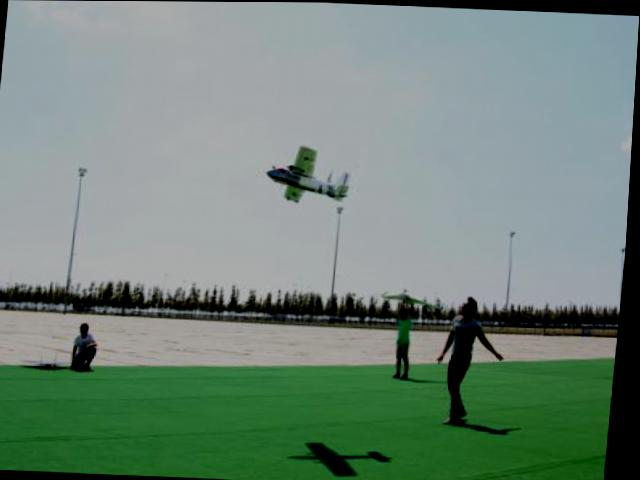uav: (264, 142, 354, 208)
